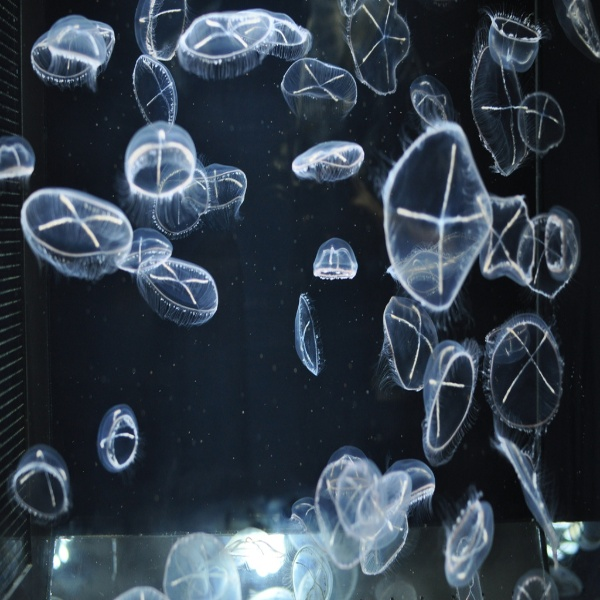Jellyfish: (0, 0, 599, 599), (30, 12, 115, 92)
